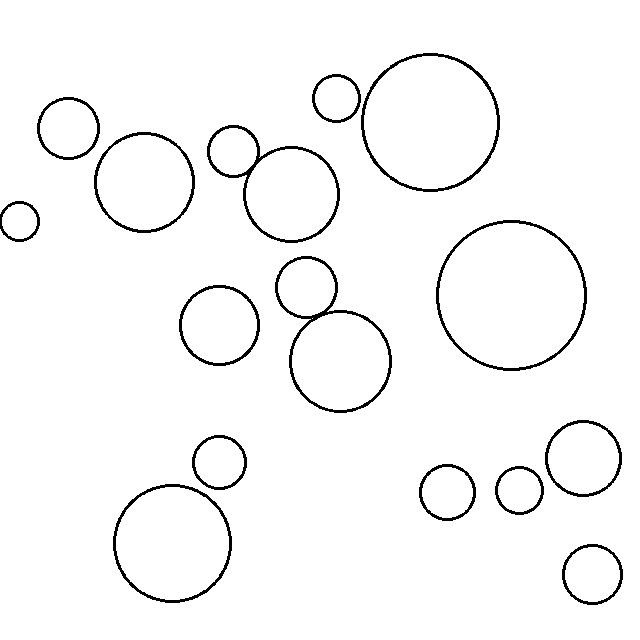circle: (436, 217, 589, 373), (363, 50, 502, 194), (114, 482, 232, 604), (288, 307, 394, 415), (95, 129, 197, 234), (243, 145, 343, 244), (178, 283, 263, 368), (546, 417, 623, 499), (35, 95, 103, 161), (275, 253, 341, 319), (561, 542, 625, 606), (417, 463, 479, 522), (192, 432, 249, 492), (206, 122, 261, 179), (494, 464, 546, 517), (311, 73, 363, 125), (2, 199, 42, 244)
